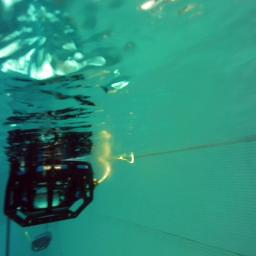Side: (3, 163, 97, 224)
